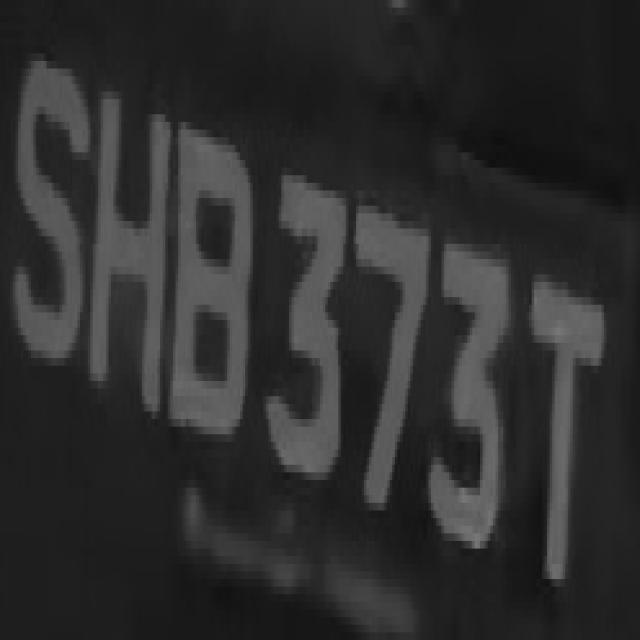3: (428, 175, 514, 579), (263, 129, 346, 503)
7: (341, 168, 428, 533)
B: (178, 91, 250, 465)
H: (93, 61, 170, 442)
S: (13, 38, 80, 389)
T: (522, 221, 606, 625)
